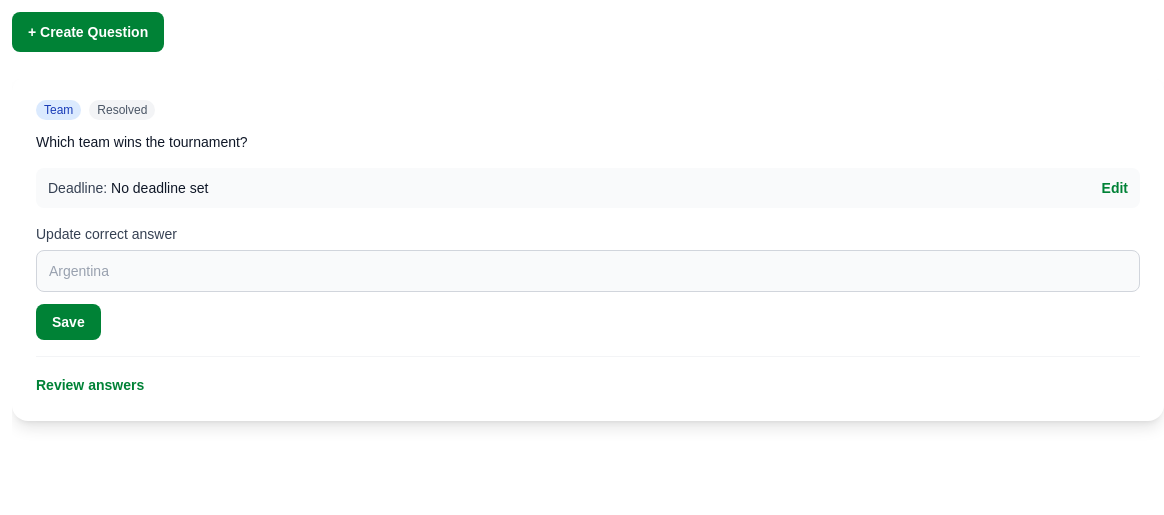
Test: AdminExtraQuestionsClient › shows an error when listAnswersForReview fails
The width and height of the screenshot is (1164, 515).
Click the button "Review answers" at [90, 385], box [36, 375, 144, 395]
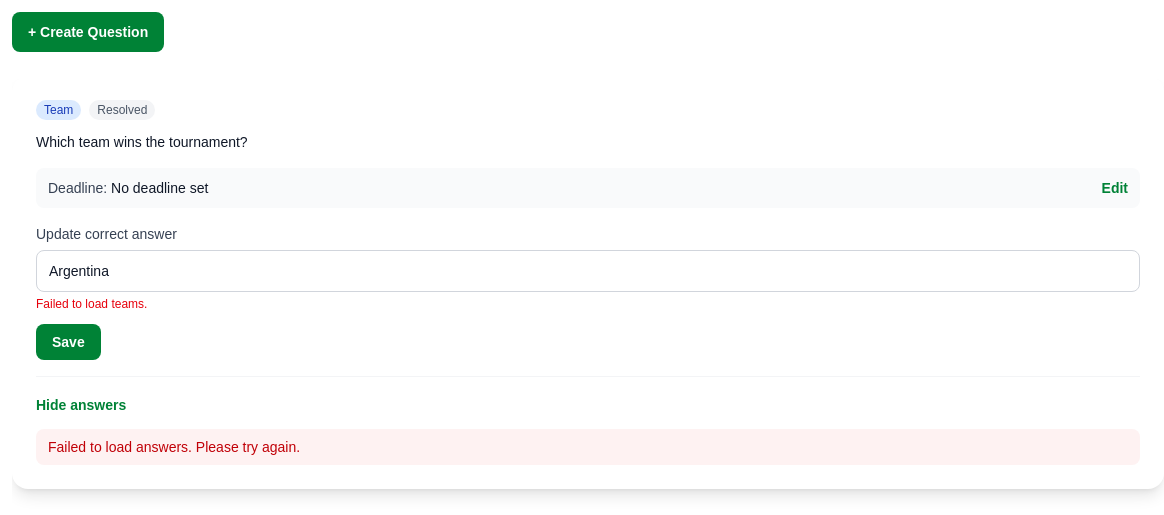
Expected: the message shows "Failed to load answers", [48, 439, 300, 455]
